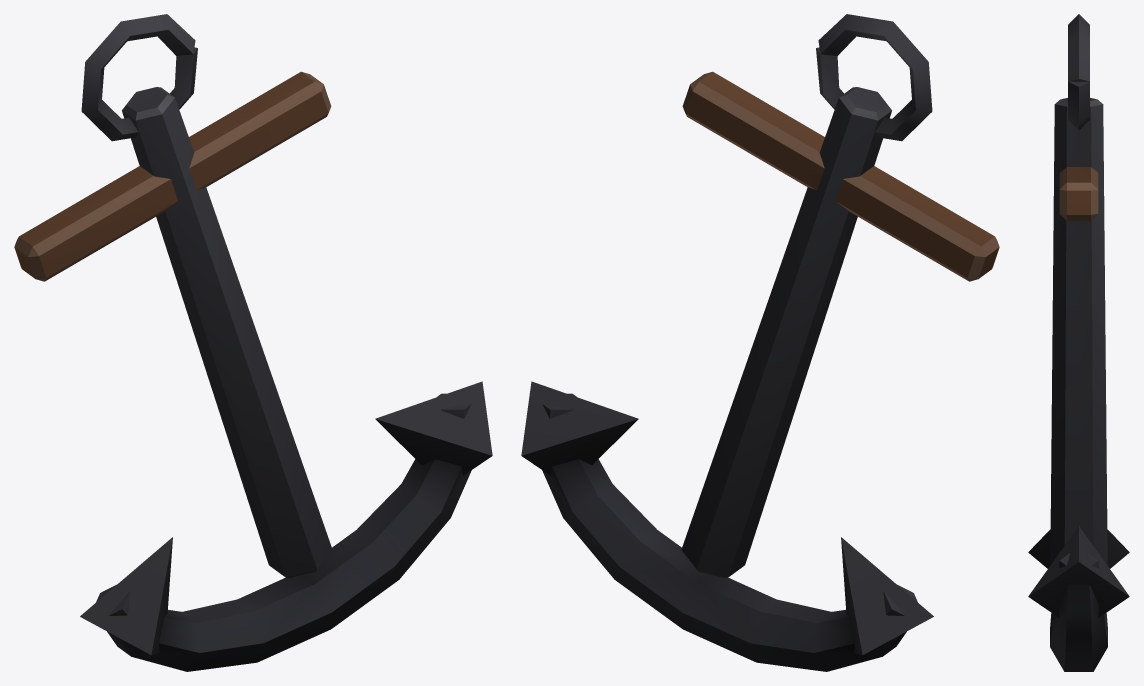
The model's file is HD_Anchor.glb.
3 renders of one model, left to right at view 1: azimuth 30°, elevation 25°; view 2: azimuth 150°, elevation 25°; view 3: azimuth 270°, elevation 25°, orthographic. The views are drawn at different scales.
Visible parts, largest first — view 1: HD_Anchor_1_Metal, HD_Anchor_2_Wood; view 2: HD_Anchor_1_Metal, HD_Anchor_2_Wood; view 3: HD_Anchor_1_Metal, HD_Anchor_2_Wood.
Part boxes in pixels (x1=…): HD_Anchor_1_Metal: x1=80, y1=14, x2=492, y2=671; HD_Anchor_2_Wood: x1=14, y1=71, x2=331, y2=281; HD_Anchor_1_Metal: x1=521, y1=14, x2=933, y2=671; HD_Anchor_2_Wood: x1=682, y1=71, x2=999, y2=281; HD_Anchor_1_Metal: x1=1028, y1=14, x2=1129, y2=671; HD_Anchor_2_Wood: x1=1059, y1=167, x2=1098, y2=221.
Bounding box in the file's own units: 3.86 × 5.32 × 0.84.
